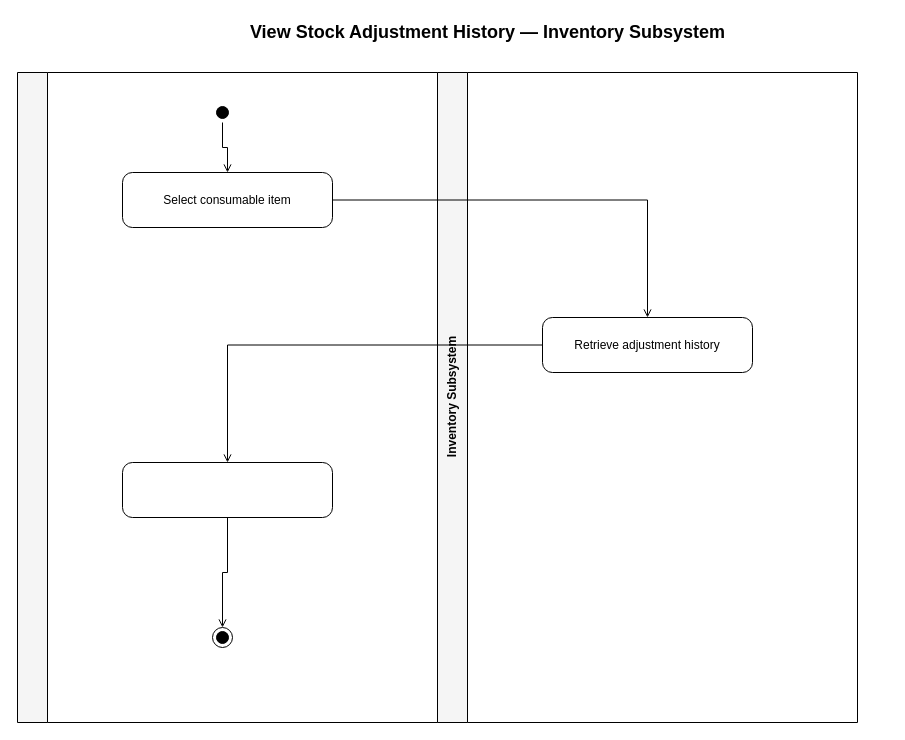
The diagram is 905 pixels wide and 740 high, and some of its shapes have lost their labels. The shapes that lost their labels are listed below. From the top down, each one's box as (x1, y1, x2, y2) in pixels, then its label:
(16, 72, 438, 722): Office Manager
(122, 462, 332, 518): Display adjustment history
